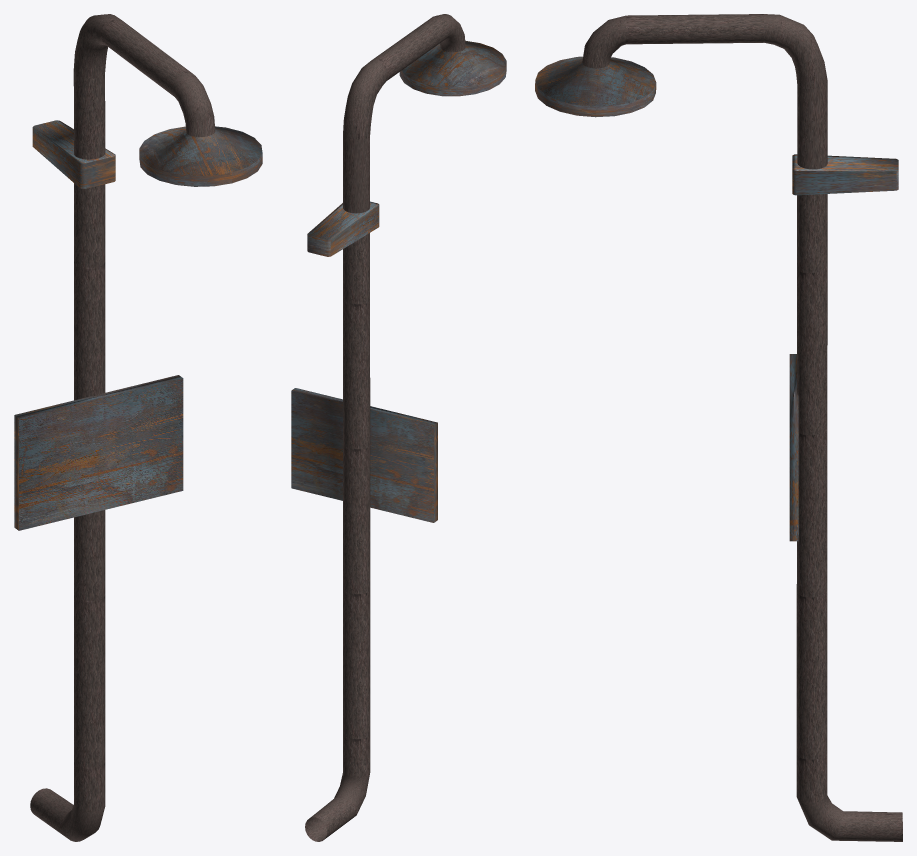
Rendered from Shower.dae.
The picture shows the model from 3 angles, left to right: view 1: azimuth 30°, elevation 25°; view 2: azimuth 150°, elevation 25°; view 3: azimuth 270°, elevation 25°; orthographic projection. The views are drawn at different scales.
Parts seen in each view (by area): view 1: Cylinder; view 2: Cylinder; view 3: Cylinder.
Boxes of the visible parts, x1=… form: Cylinder: x1=14, y1=14, x2=262, y2=841; Cylinder: x1=291, y1=14, x2=506, y2=841; Cylinder: x1=535, y1=14, x2=902, y2=841.
Size of the model in its own units: 0.8856 by 1.77 by 4.37.
